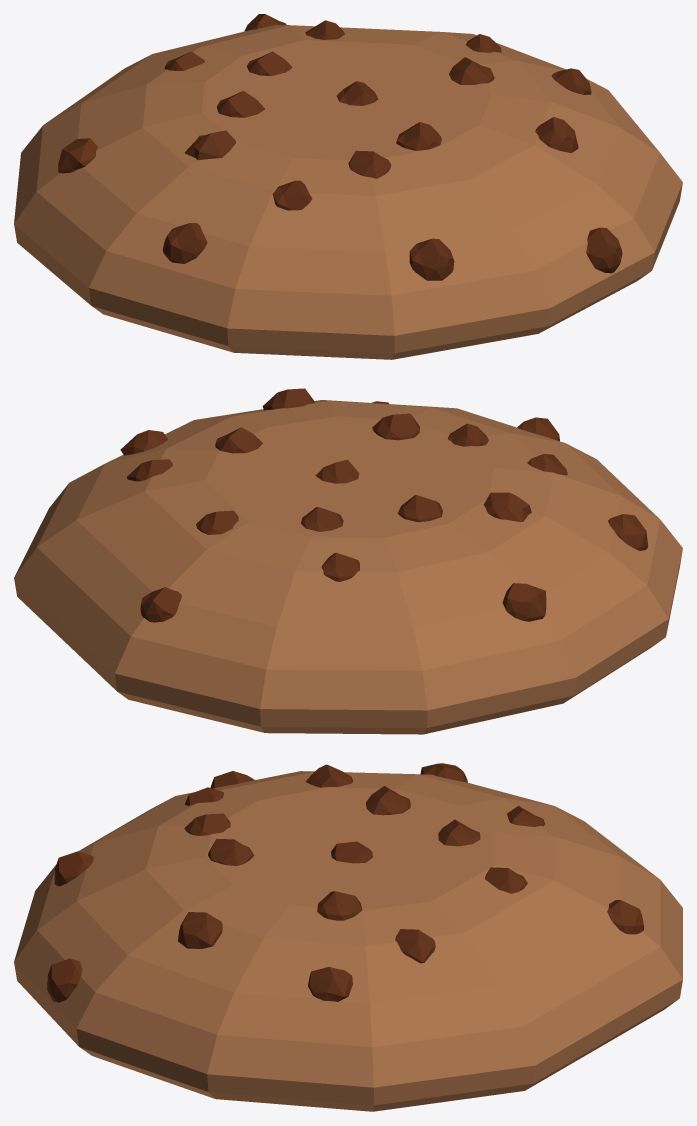
The model's file is bakedMilkCookie.fbx.
3 views of the same model, one above another, from view 1: azimuth 30°, elevation 25°; view 2: azimuth 150°, elevation 25°; view 3: azimuth 270°, elevation 25° (orthographic).
Parts seen in each view (by area): view 1: Icosphere; view 2: Icosphere; view 3: Icosphere.
Boxes of the visible parts, bbox=[...] form: Icosphere: bbox=[14, 14, 682, 359]; Icosphere: bbox=[14, 388, 682, 734]; Icosphere: bbox=[14, 763, 682, 1111].
Bounding box in the file's own units: 58.12 × 14.4 × 57.55.
